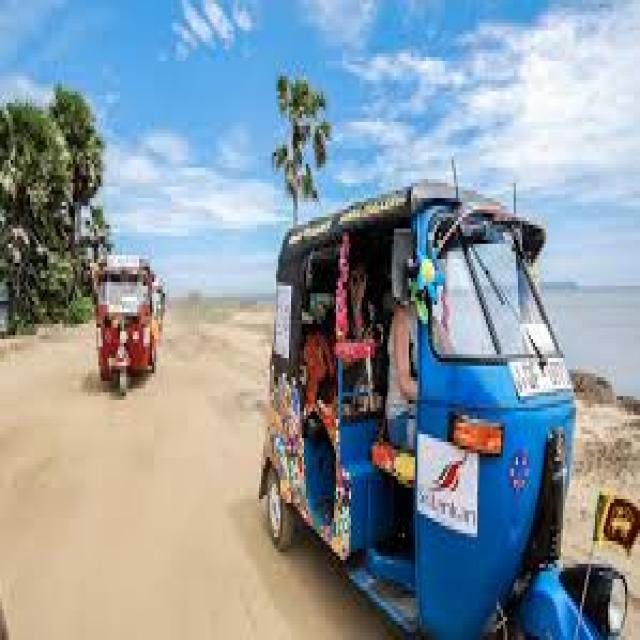tuktuk: (224, 156, 640, 640), (62, 232, 200, 485)
